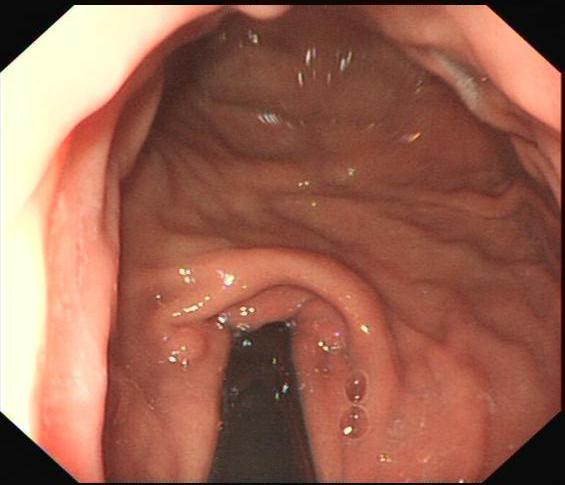Polyp: (154, 312, 221, 379)
